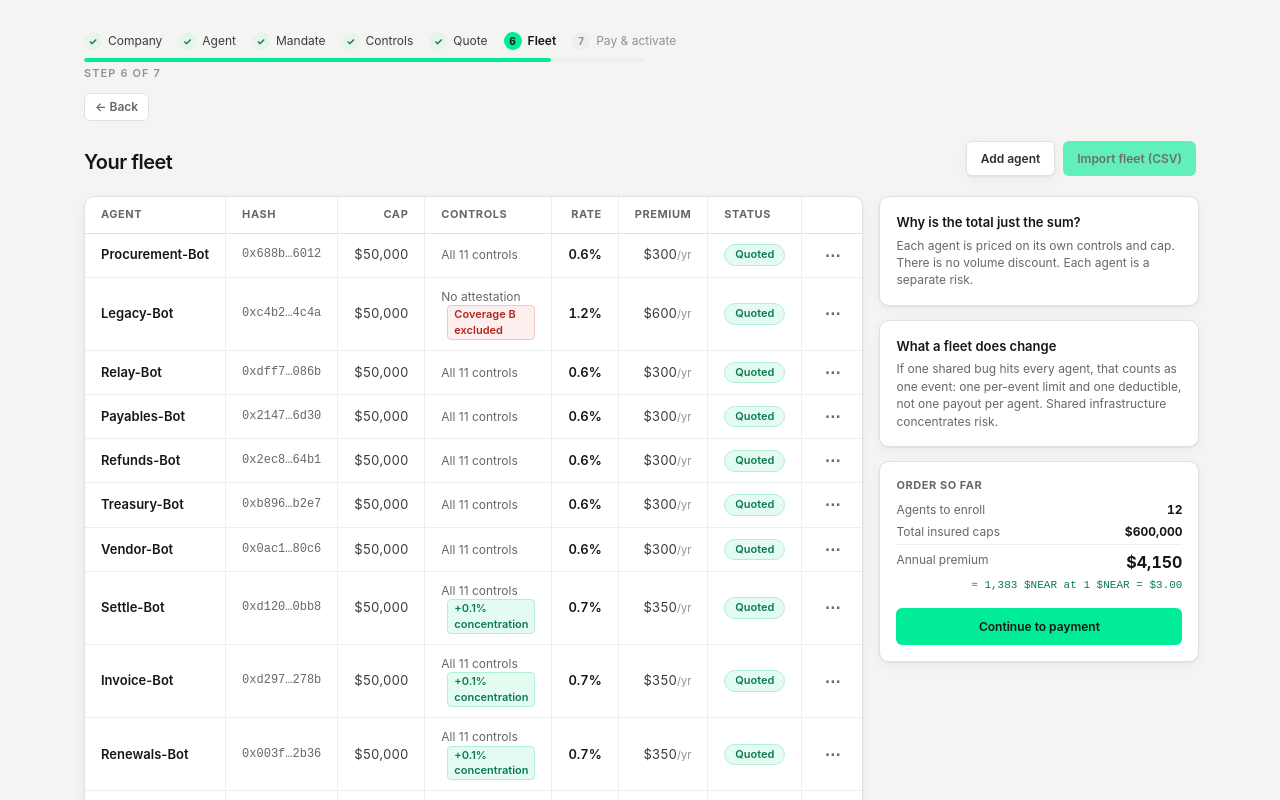
7.7 — de-enroll menu (REQ-7.7.4, D7) › refund is $0 with the named reason once an incident is noticed (D7 exception)
This screenshot has width=1280, height=800.
Click the button with test id "row-menu-payables-bot" at coordinates (832, 417), box [818,405,846,428]
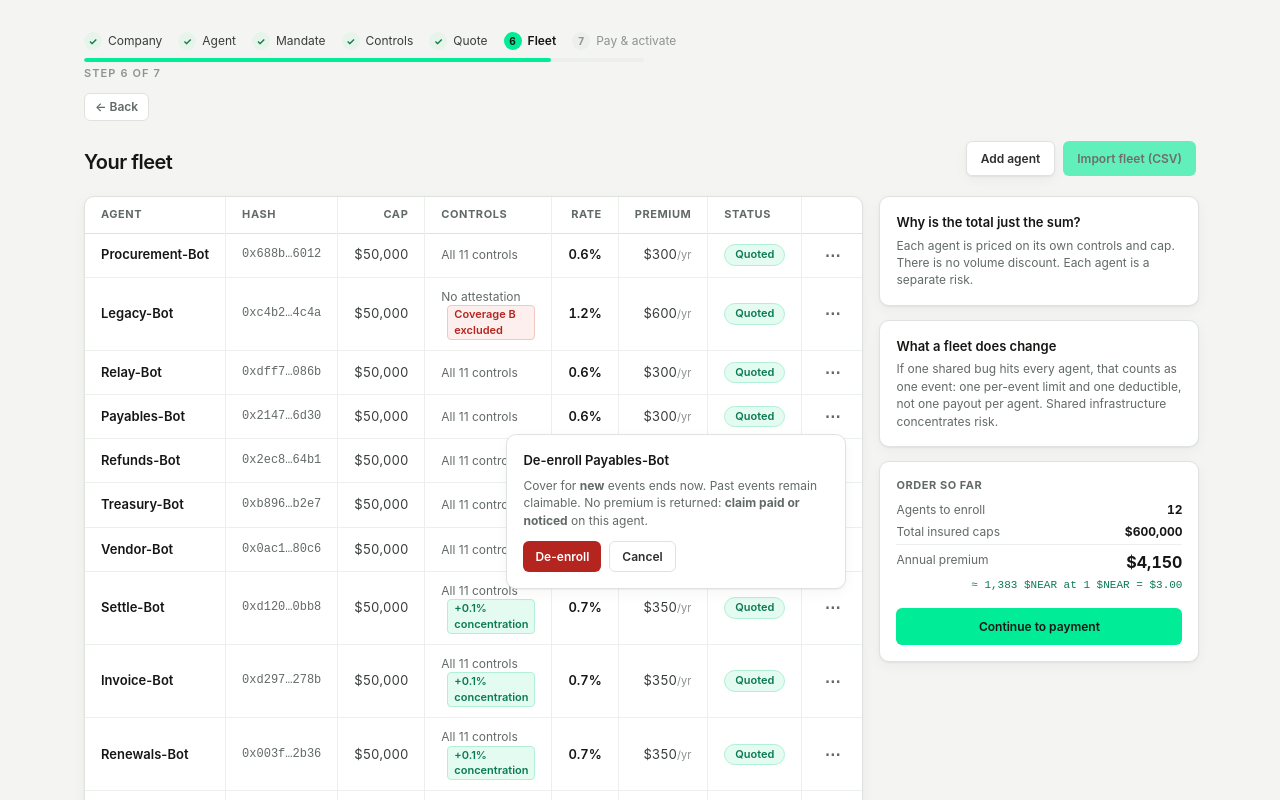
Result: the element with test id "deenroll-no-refund" shows "No premium is returned" at [584,495,725,510]
Result: the element with test id "deenroll-no-refund" shows "claim paid or noticed" at [523,495,800,528]
